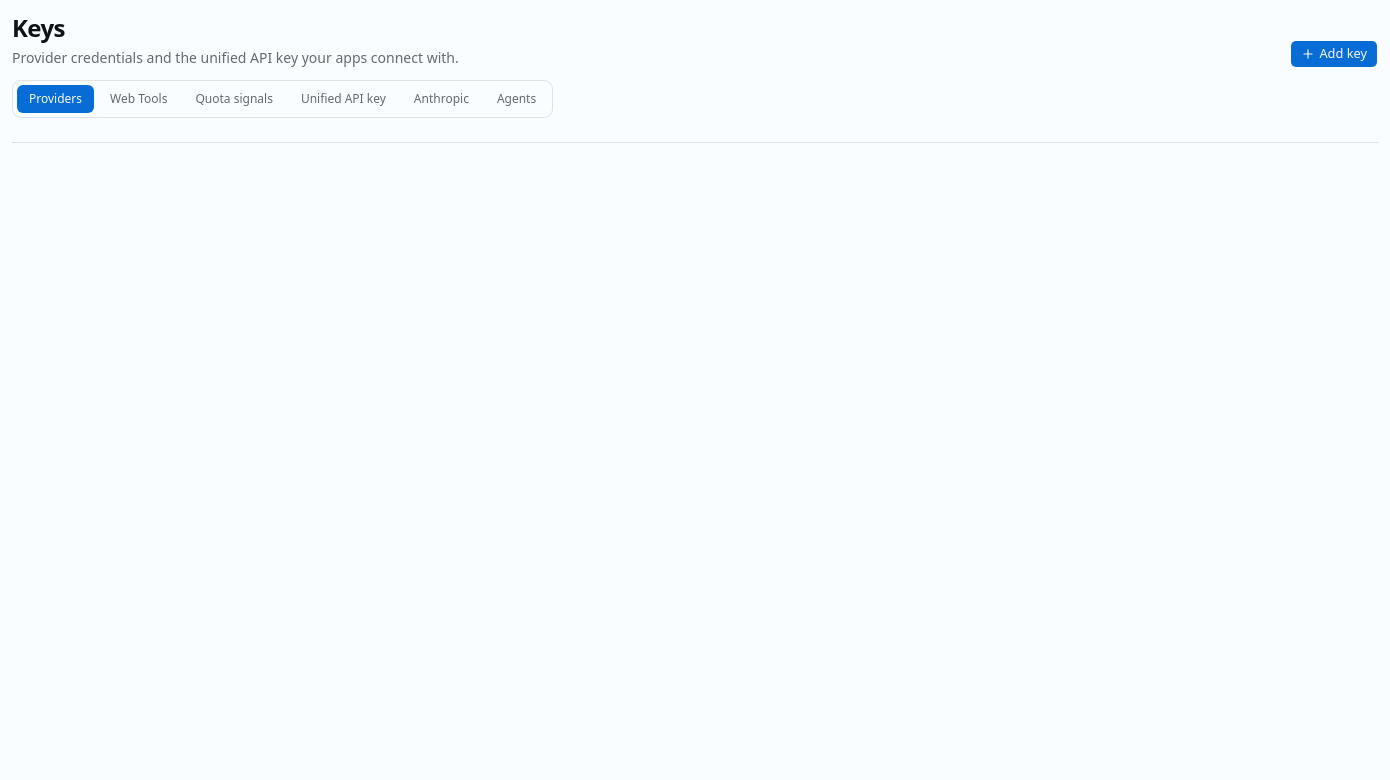
Test: labels stale balances as last reported and exhausted windows explicitly
Click the tab "Quota signals". click: click(234, 99)
box: [183, 85, 285, 113]
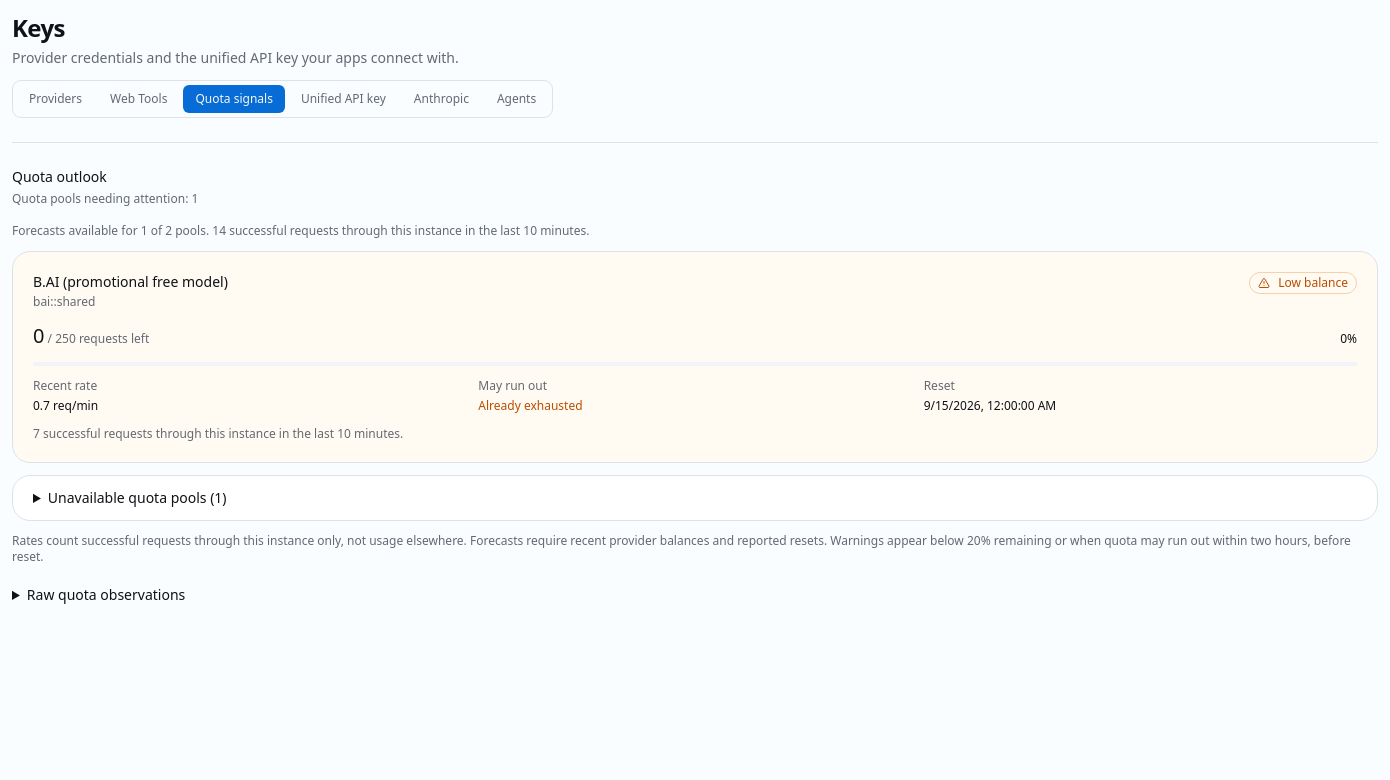
expect the text "Already exhausted" is shown: met, box [478, 397, 583, 414]
